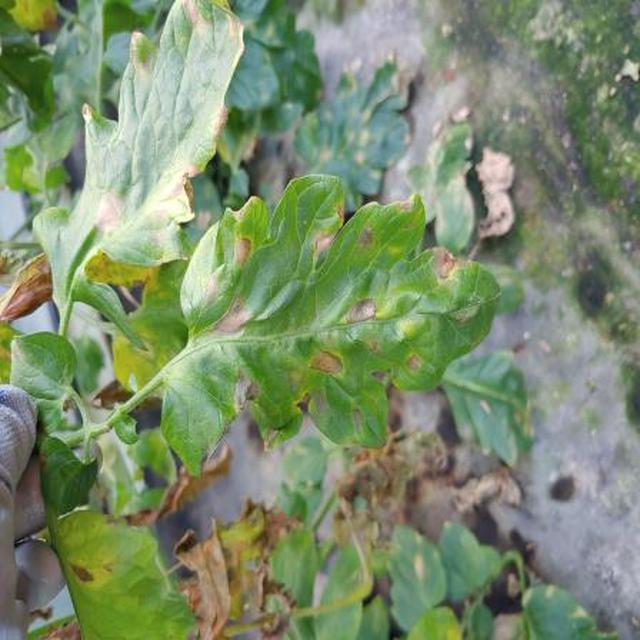Leaf Mold: (198, 229, 480, 466)
